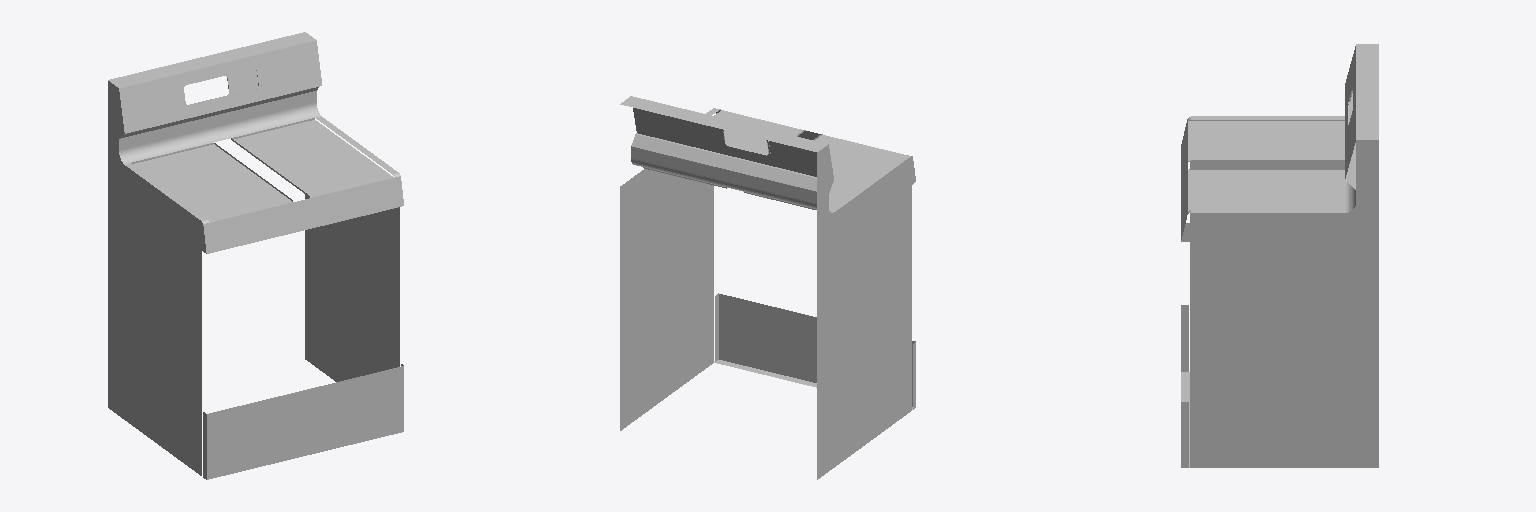
File: original-42.obj
The picture shows the model from 3 angles: view 1: azimuth 30°, elevation 25°; view 2: azimuth 150°, elevation 25°; view 3: azimuth 270°, elevation 25°; orthographic projection.
Visible parts, largest first — view 1: mesh16/mesh16-geometry/material_1/component_0#mesh16-geometry; view 2: mesh16/mesh16-geometry/material_1/component_0#mesh16-geometry; view 3: mesh16/mesh16-geometry/material_1/component_0#mesh16-geometry.
Boxes of the visible parts, x1,y1,x2,y2 form: mesh16/mesh16-geometry/material_1/component_0#mesh16-geometry: [108, 32, 403, 479]; mesh16/mesh16-geometry/material_1/component_0#mesh16-geometry: [620, 96, 915, 479]; mesh16/mesh16-geometry/material_1/component_0#mesh16-geometry: [1181, 44, 1378, 467].
Size of the model in its own units: 0.9331 by 1.48 by 0.809.